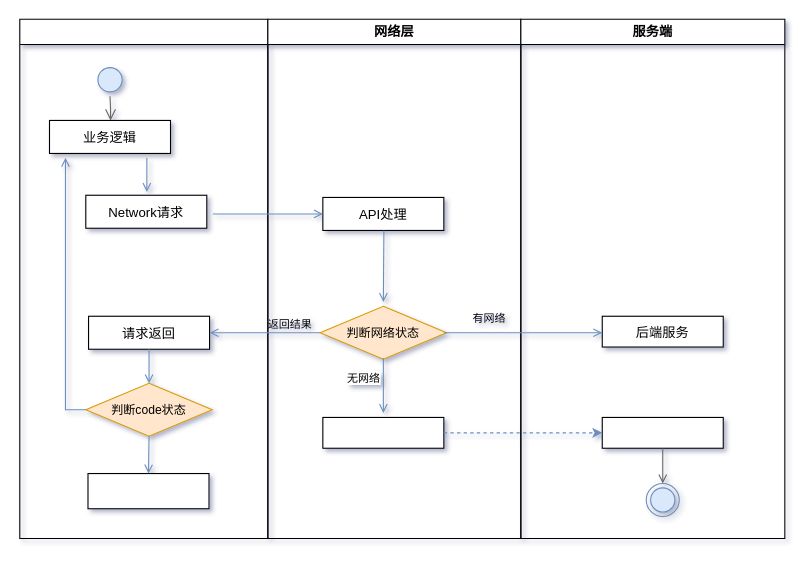
Some shapes in this 811 by 564 pixel diagram are drawn without their labels. Here are the shapes that lost their labels. From the top down, the box of each, then its label:
(19, 18, 268, 538): App端业务
(322, 416, 444, 448): 日志上报
(601, 416, 723, 448): 链路存储
(87, 472, 209, 509): Toast("网络开小差了")
